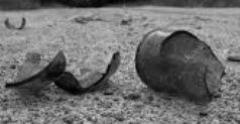glass: (136, 27, 226, 106), (48, 51, 122, 95), (5, 51, 66, 97)
